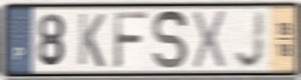8: (37, 12, 67, 69)
F: (112, 10, 150, 71)
J: (233, 9, 266, 70)
K: (77, 12, 107, 70)
S: (151, 8, 190, 72)
X: (192, 9, 228, 72)
